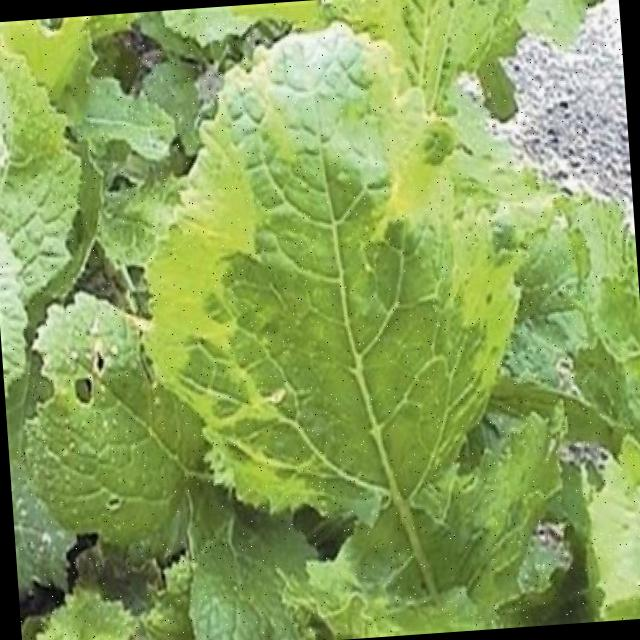Lettuce Mosaic Virus: (117, 8, 562, 629)
